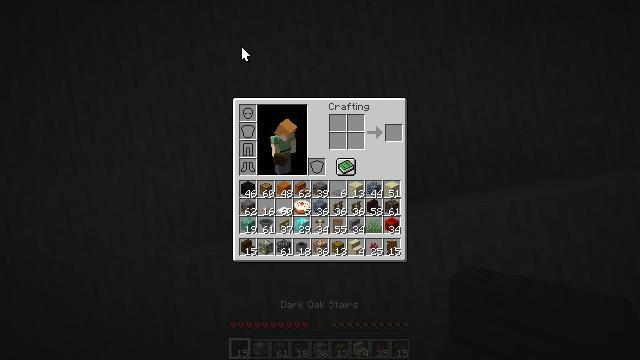cursor: (241, 46, 251, 62)
